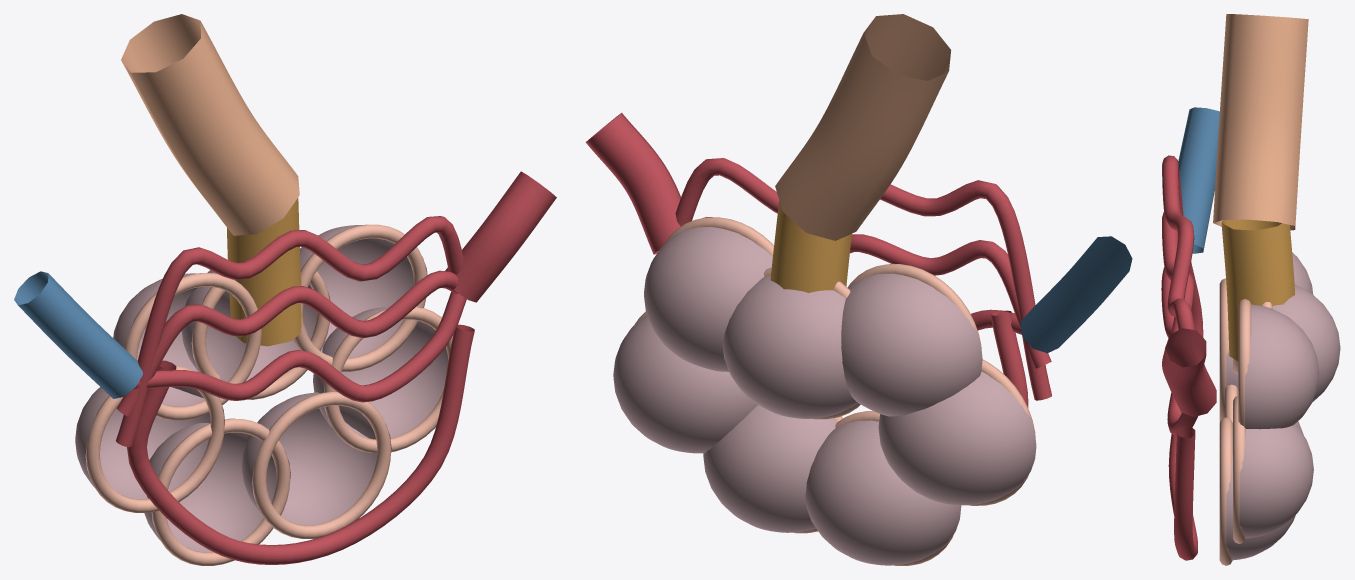
Rendered from alveolar-exchange.glb.
3 views of the same model, side by side, from view 1: azimuth 30°, elevation 25°; view 2: azimuth 150°, elevation 25°; view 3: azimuth 270°, elevation 25° (orthographic). The views are drawn at different scales.
Parts seen in each view (by area): view 1: alveolar_air_spaces, capillary_network, alveolar_septum, respiratory_bronchiole, pulmonary_arteriole, pulmonary_venule, alveolar_duct; view 2: alveolar_air_spaces, respiratory_bronchiole, capillary_network, pulmonary_arteriole, pulmonary_venule, alveolar_duct, alveolar_septum; view 3: alveolar_air_spaces, respiratory_bronchiole, capillary_network, alveolar_duct, alveolar_septum, pulmonary_arteriole, pulmonary_venule.
Boxes of the visible parts, box(x1,y1,x2,y2) form: alveolar_air_spaces: box(75, 225, 448, 552); capillary_network: box(116, 216, 474, 564); alveolar_septum: box(86, 224, 453, 565); respiratory_bronchiole: box(121, 14, 299, 235); pulmonary_arteriole: box(14, 271, 142, 398); pulmonary_venule: box(445, 171, 556, 302); alveolar_duct: box(227, 198, 303, 346); alveolar_air_spaces: box(613, 227, 1036, 565); respiratory_bronchiole: box(775, 14, 951, 240); capillary_network: box(675, 158, 1051, 407); pulmonary_arteriole: box(1020, 236, 1132, 353); pulmonary_venule: box(585, 112, 680, 254); alveolar_duct: box(770, 201, 851, 292); alveolar_septum: box(634, 217, 1035, 565); alveolar_air_spaces: box(1226, 252, 1340, 560); respiratory_bronchiole: box(1213, 14, 1308, 230); capillary_network: box(1161, 155, 1203, 560); alveolar_duct: box(1221, 219, 1295, 360); alveolar_septum: box(1219, 278, 1272, 565); pulmonary_arteriole: box(1178, 107, 1219, 253); pulmonary_venule: box(1162, 328, 1216, 416).
Size of the model in its own units: 2.14 by 2.08 by 0.6736.
